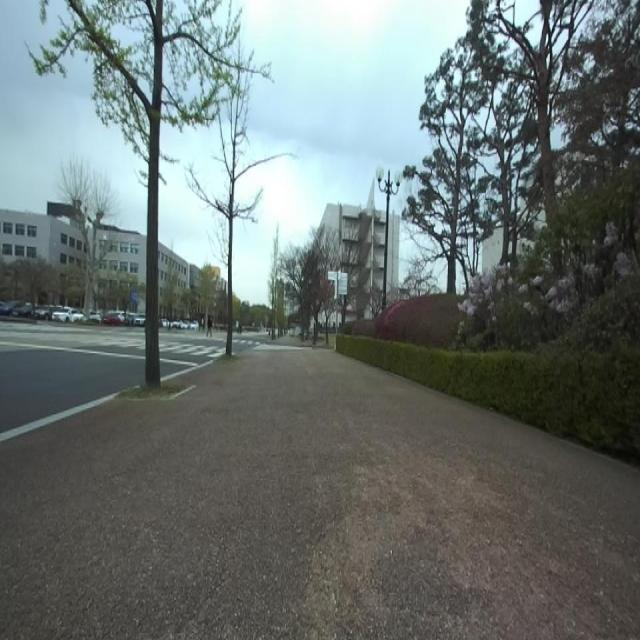sidewalk: (0, 350, 640, 639), (0, 393, 119, 441), (161, 360, 213, 382)
